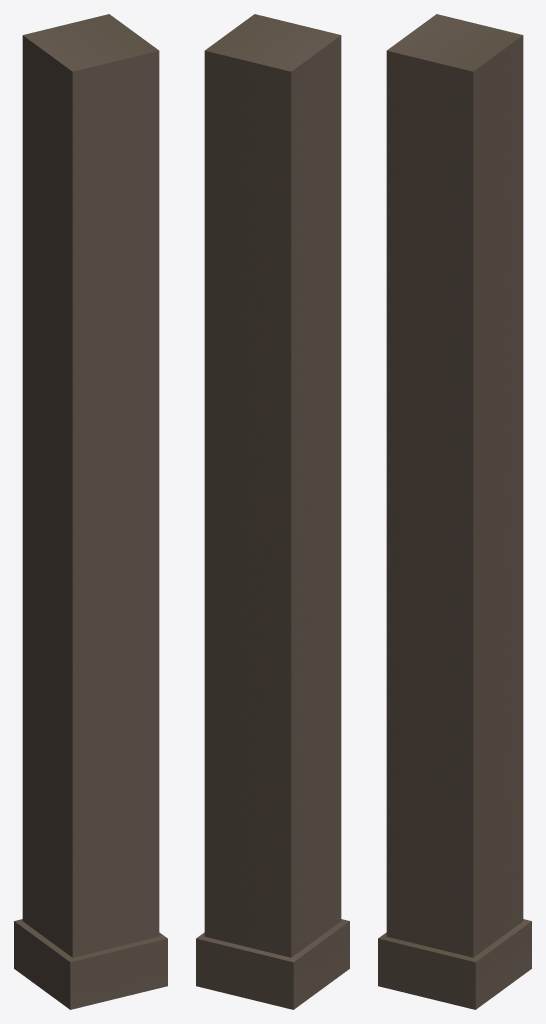
Rendered from Beam_1.fbx.
The picture shows the model from 3 angles, left to right: view 1: azimuth 30°, elevation 25°; view 2: azimuth 150°, elevation 25°; view 3: azimuth 330°, elevation 25°; orthographic projection.
Visible parts, largest first — view 1: pCube22; view 2: pCube22; view 3: pCube22.
Part boxes in pixels (x1,y1,x2,y2): pCube22: (14,14,167,1009); pCube22: (196,14,349,1009); pCube22: (378,14,531,1009).
Bounding box in the file's own units: 45 × 412 × 45.
